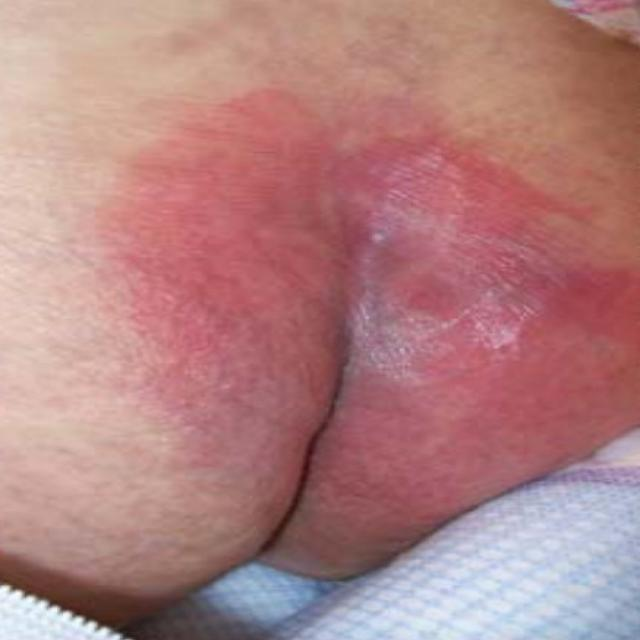stage-1: (93, 100, 640, 569)
